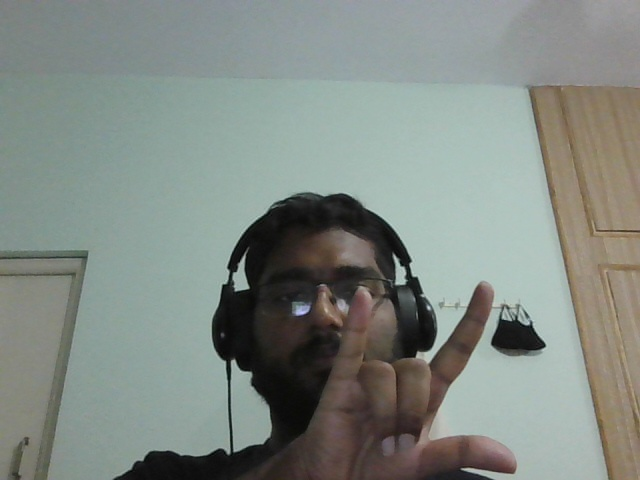I Love You: (293, 279, 547, 480)
